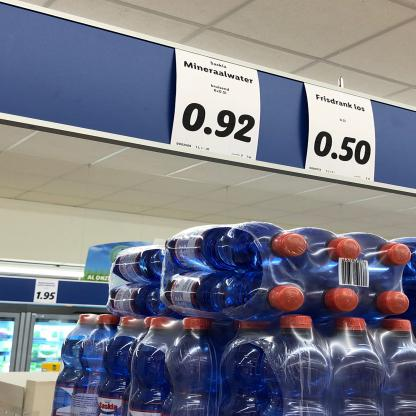prtg: (170, 50, 262, 162), (304, 83, 377, 183)
